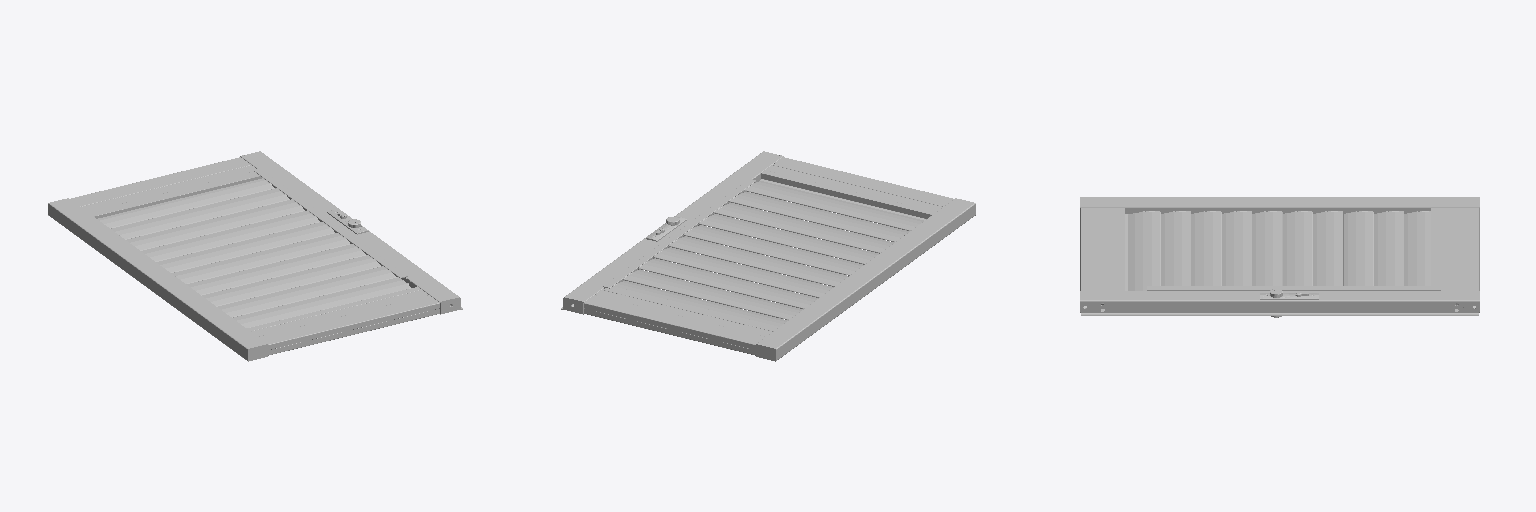
The model's file is ShutterGuard Panel .obj.
The picture shows the model from 3 angles: view 1: azimuth 30°, elevation 25°; view 2: azimuth 150°, elevation 25°; view 3: azimuth 270°, elevation 25°; orthographic projection.
Visible parts, largest first — view 1: Automation_R_D_Panel_; view 2: Automation_R_D_Panel_; view 3: Automation_R_D_Panel_.
Boxes of the visible parts, x1=… form: Automation_R_D_Panel_: x1=48, y1=151, x2=462, y2=361; Automation_R_D_Panel_: x1=561, y1=151, x2=975, y2=361; Automation_R_D_Panel_: x1=1080, y1=197, x2=1479, y2=317.
Size of the model in its own units: 626 by 66.6 by 1000.